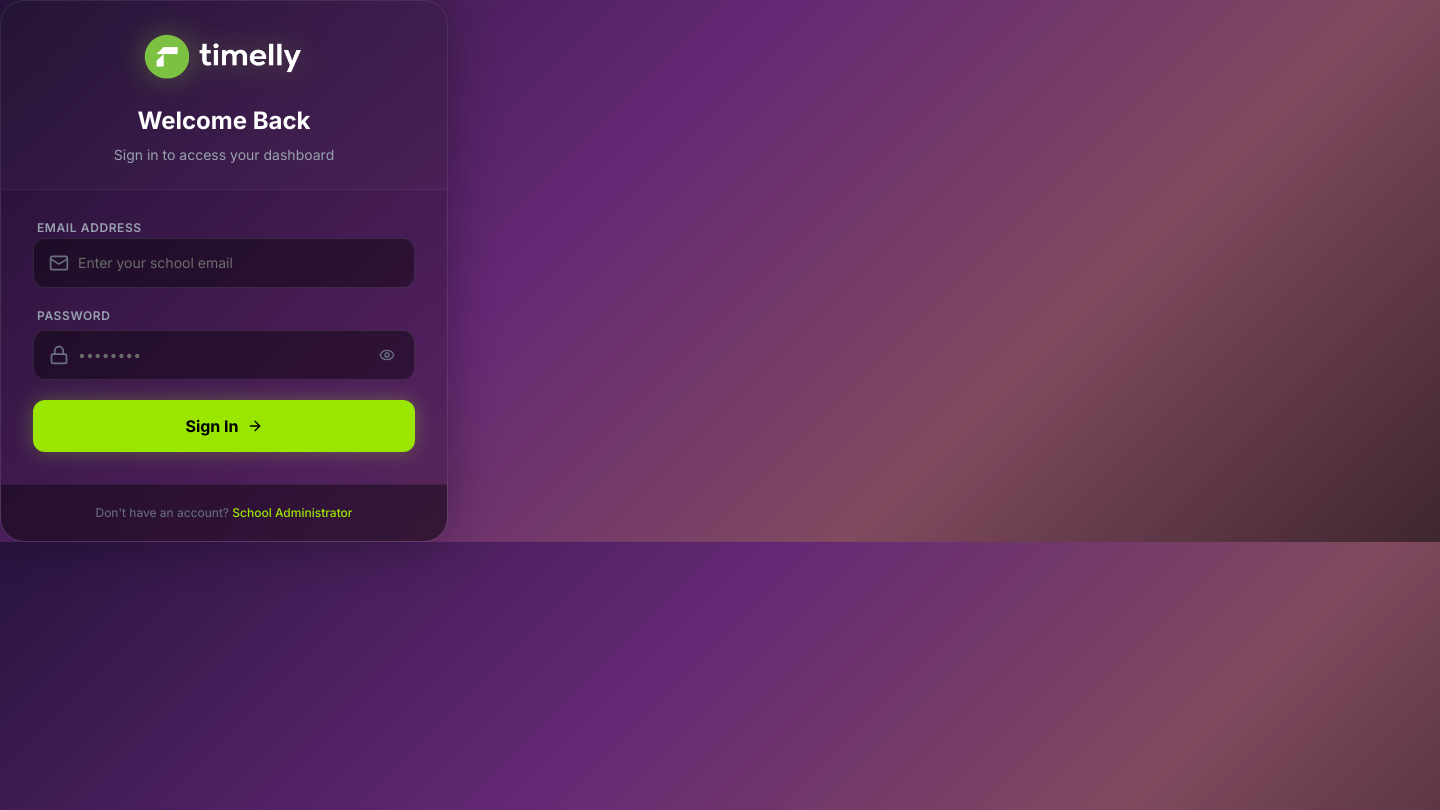
Test: LoginForm › shows error when signIn returns error
Type "test@school.com" into the field with placeholder "Enter your school email".
click(224, 263); type("test@school.com")  # box left=33, top=238, right=415, bottom=288
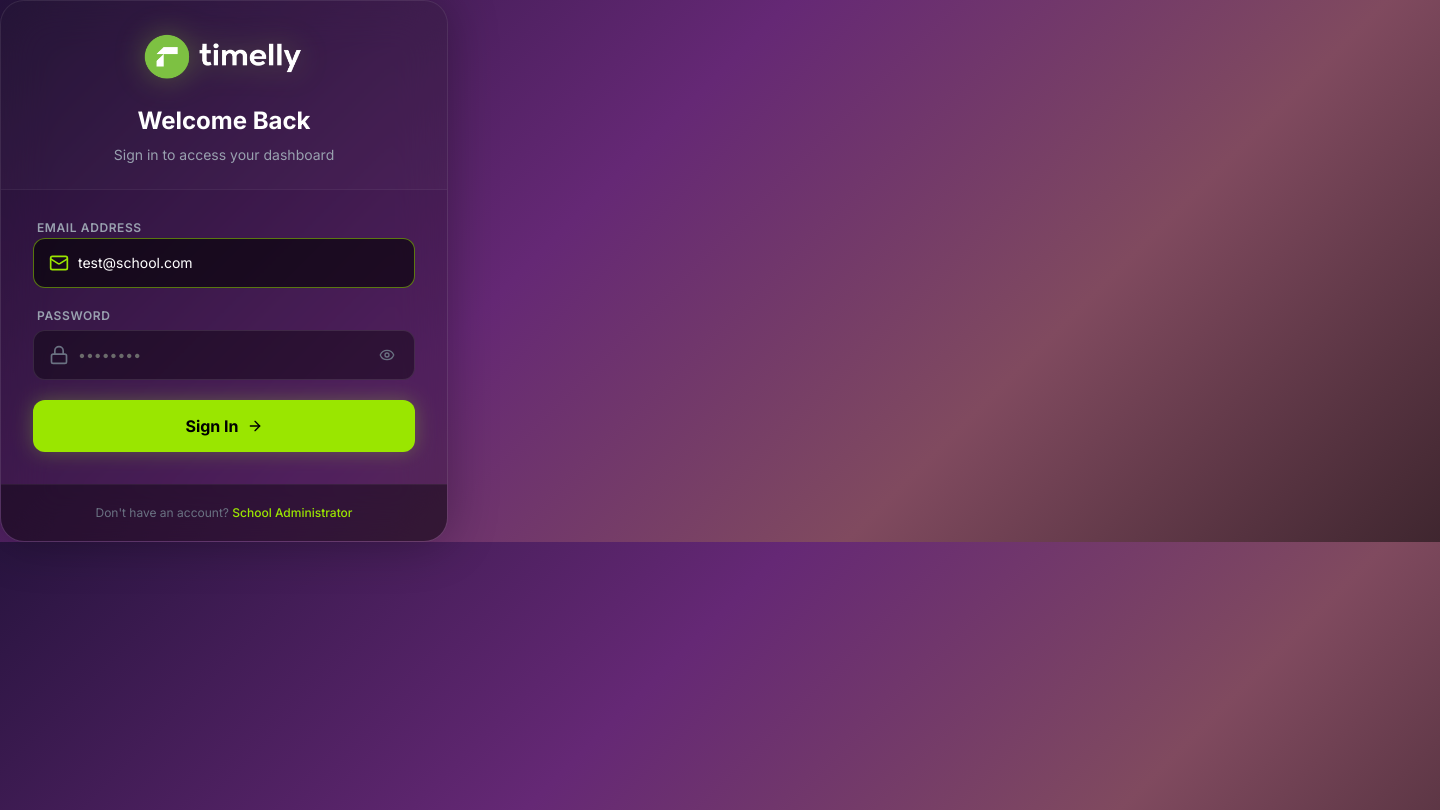
Type "pass" into the password field with placeholder "••••••••".
click(224, 355); type("pass")  # box left=33, top=330, right=415, bottom=380
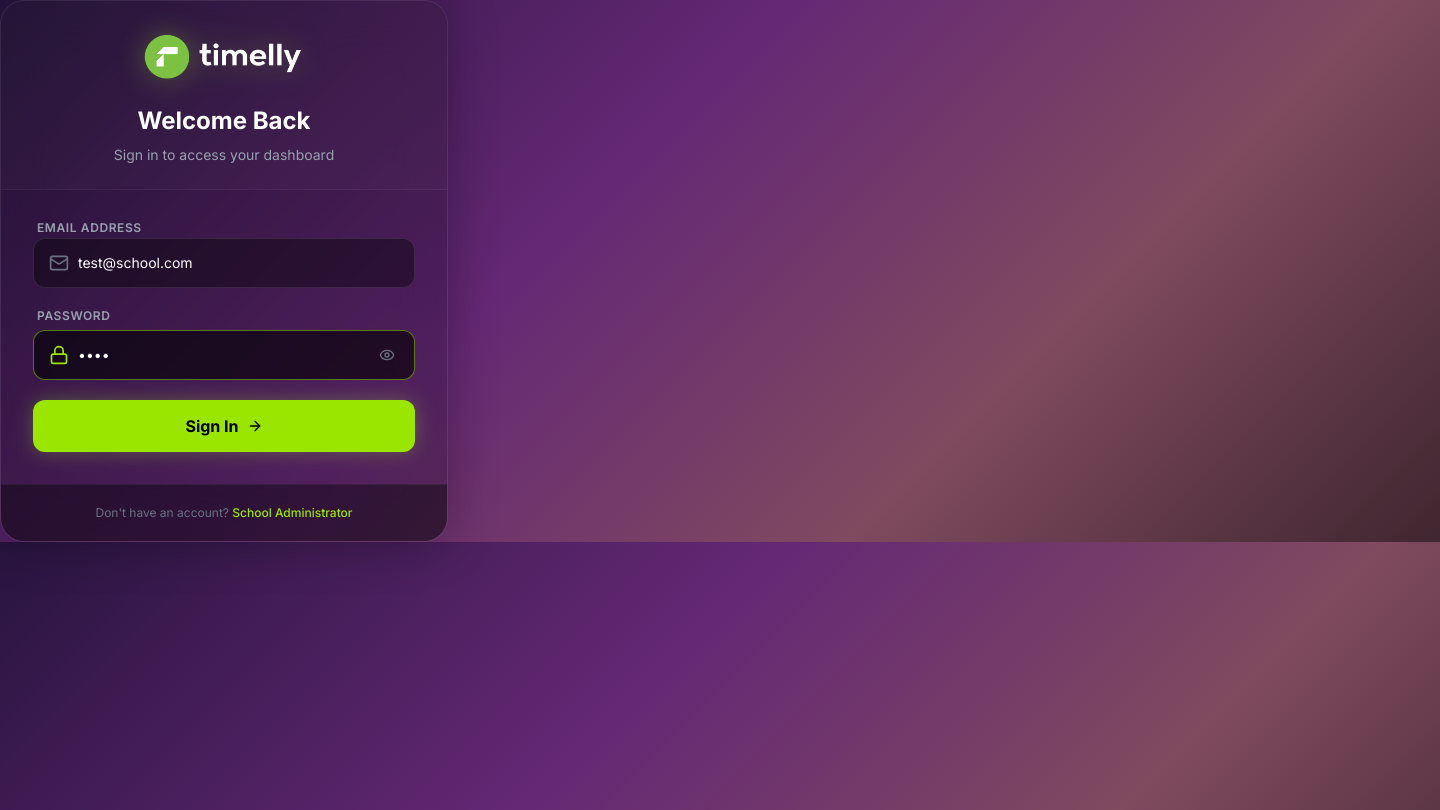
Submit the form from the button "Sign In", box left=33, top=400, right=415, bottom=452
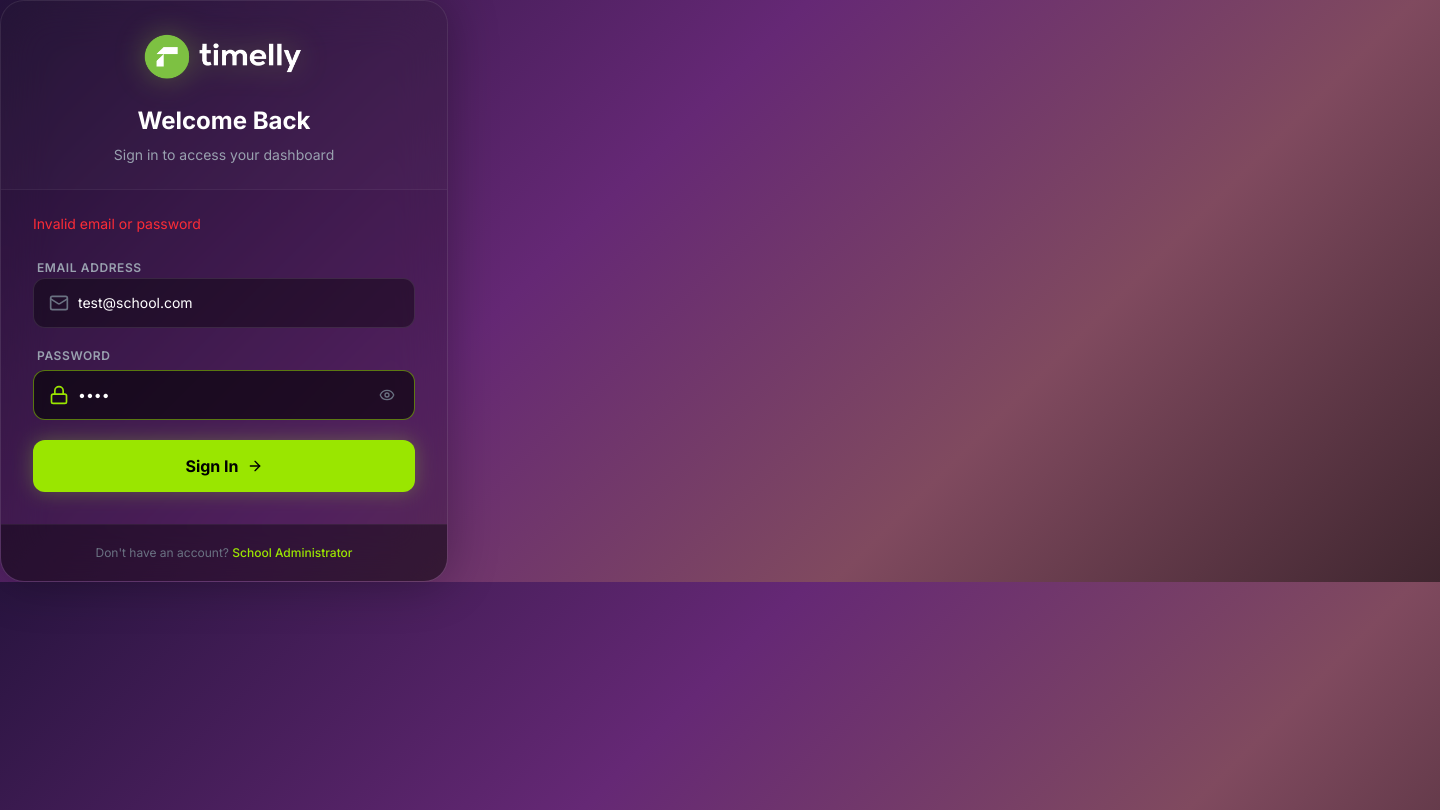
Now the text "Invalid email or password" is shown, box left=33, top=215, right=201, bottom=232
